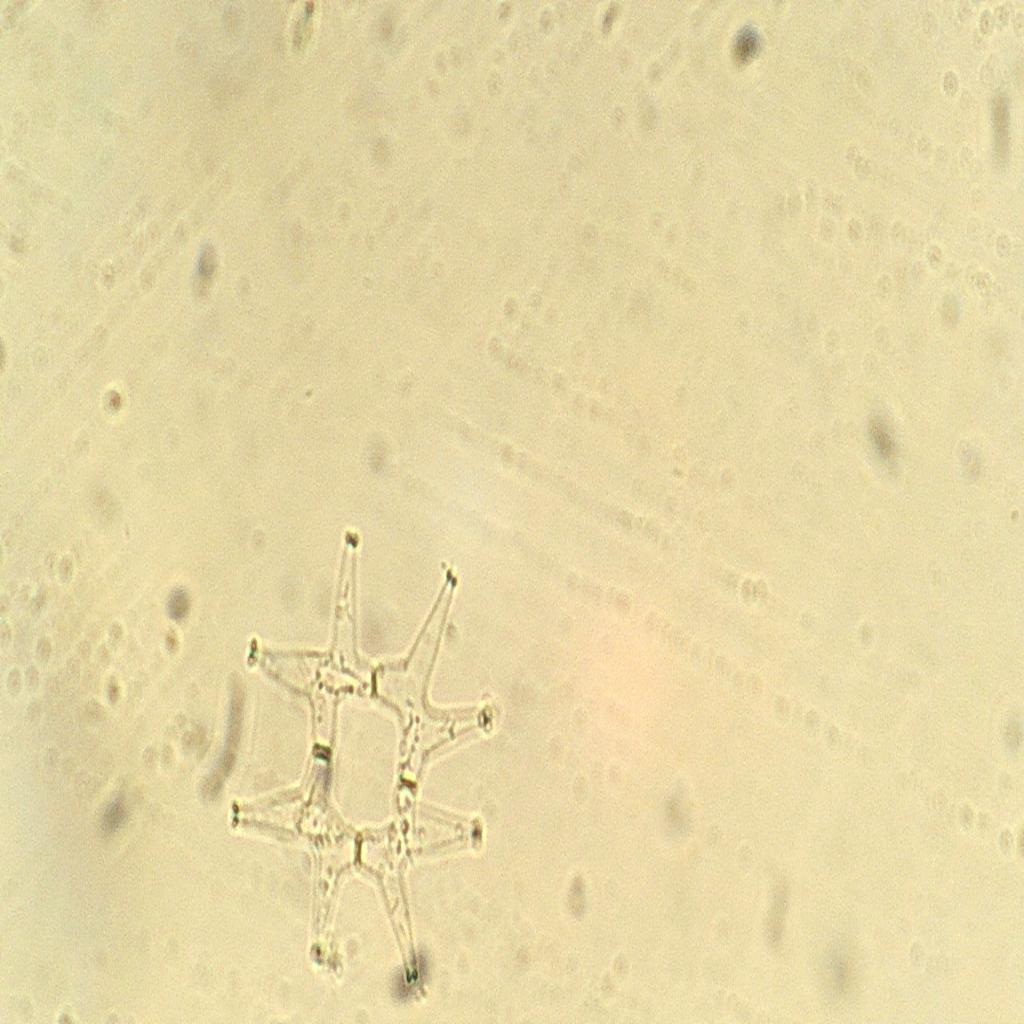Pediastrum_1F0: (203, 507, 518, 996)
